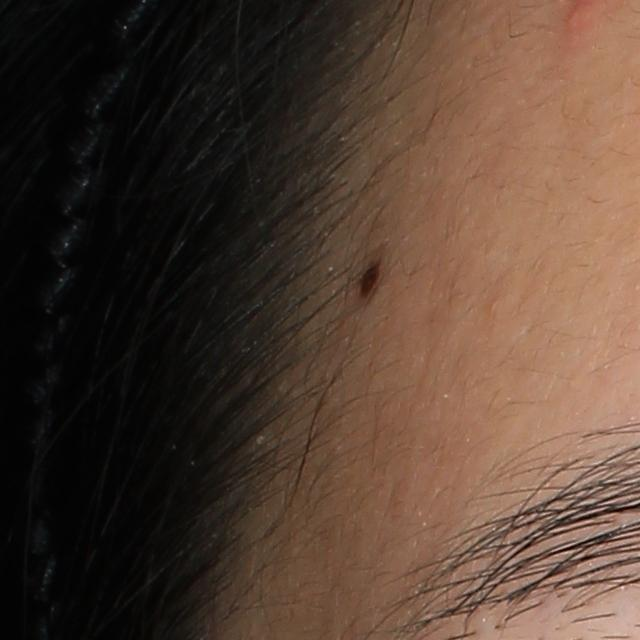nevus: (354, 259, 383, 305)
